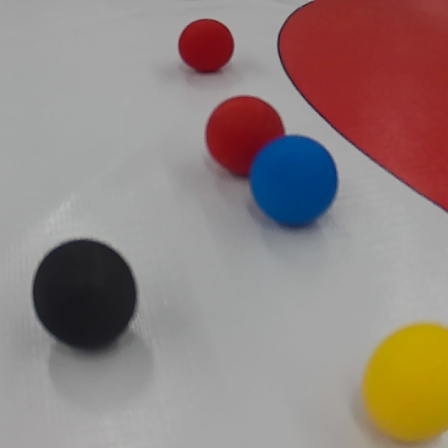black: (29, 239, 139, 349)
blue: (257, 135, 334, 229)
red: (205, 94, 287, 178), (176, 18, 240, 70)
yellow: (358, 321, 448, 446)
